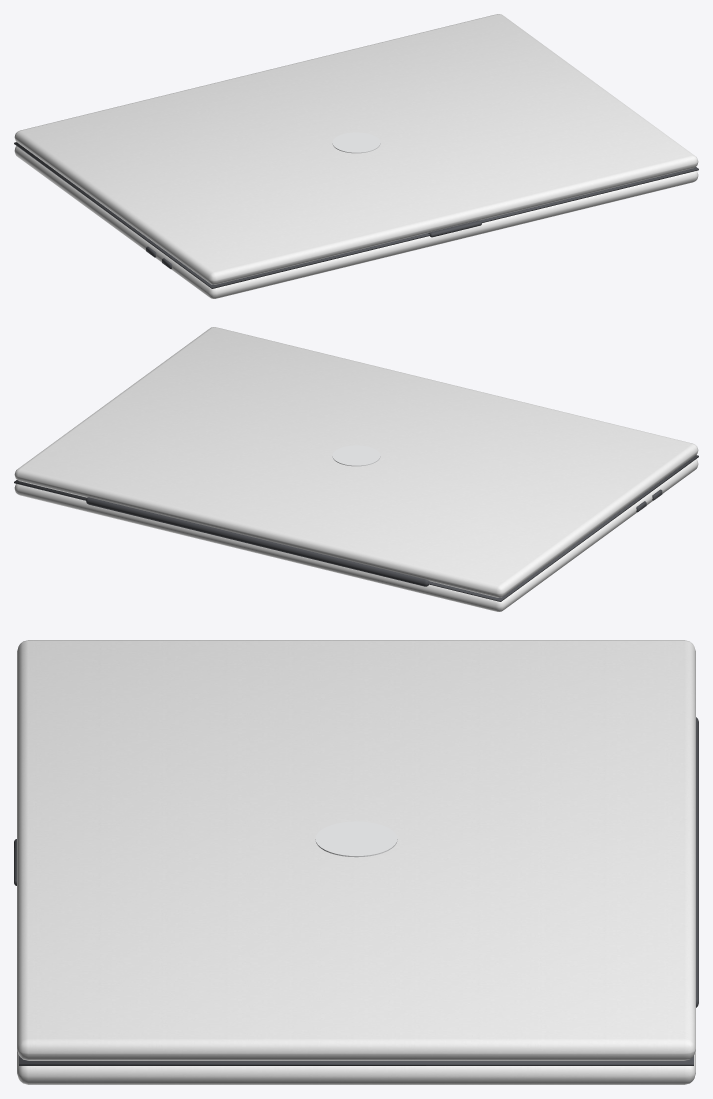
File: laptop.glb
The picture shows the model from 3 angles, top to bottom: view 1: azimuth 30°, elevation 25°; view 2: azimuth 150°, elevation 25°; view 3: azimuth 270°, elevation 25°; orthographic projection. The views are drawn at different scales.
Visible parts, largest first — view 1: laptop_lid, laptop_base, laptop_gap, laptop_logo; view 2: laptop_lid, laptop_base, laptop_hinge, laptop_gap, laptop_logo; view 3: laptop_lid, laptop_base, laptop_gap, laptop_logo, laptop_hinge.
Boxes of the visible parts, left/top/right/bottom form: laptop_lid: left=14, top=14, right=698, bottom=284; laptop_base: left=14, top=146, right=698, bottom=298; laptop_gap: left=14, top=142, right=698, bottom=288; laptop_logo: left=332, top=132, right=380, bottom=153; laptop_lid: left=14, top=327, right=698, bottom=597; laptop_base: left=14, top=459, right=698, bottom=611; laptop_hinge: left=86, top=497, right=429, bottom=586; laptop_gap: left=14, top=455, right=698, bottom=601; laptop_logo: left=332, top=445, right=380, bottom=466; laptop_lid: left=17, top=640, right=695, bottom=1060; laptop_base: left=17, top=1050, right=695, bottom=1084; laptop_gap: left=19, top=1056, right=693, bottom=1065; laptop_logo: left=315, top=821, right=397, bottom=857; laptop_hinge: left=696, top=717, right=698, bottom=1007.
Bounding box in the file's own units: 30.6 × 1.73 × 21.7.
4 materials, 1 textured.
